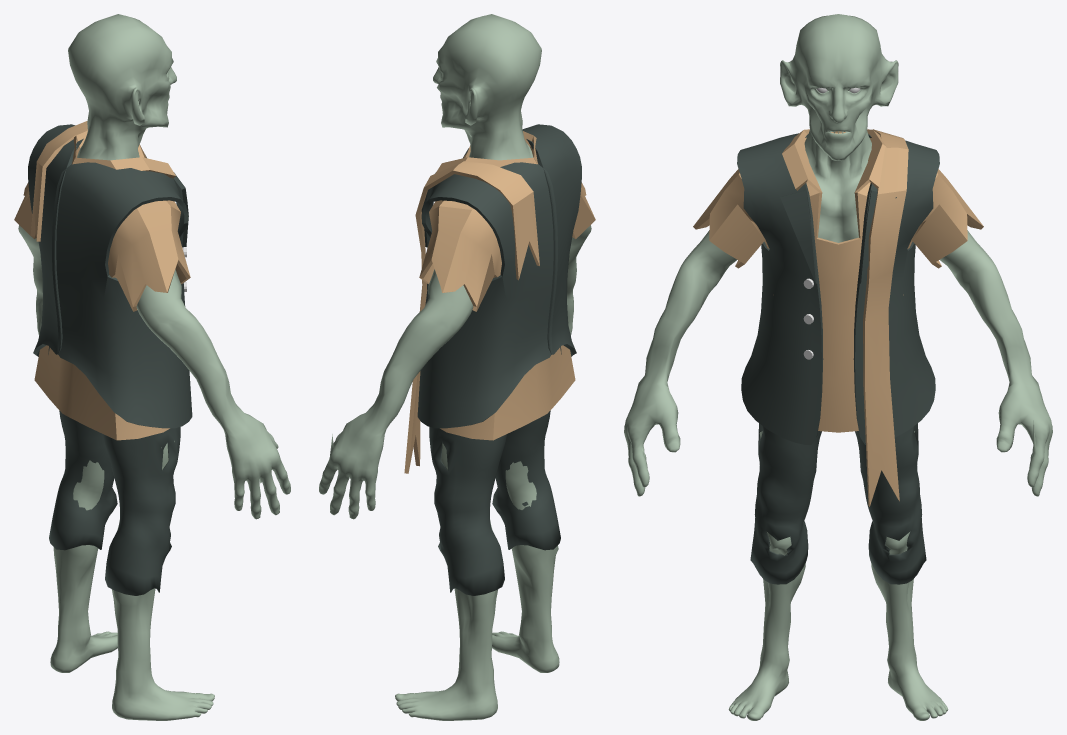
Rendered from SK_Zombie_Rework.fbx.
3 renders of one model, left to right at view 1: azimuth 30°, elevation 25°; view 2: azimuth 150°, elevation 25°; view 3: azimuth 270°, elevation 25°, orthographic. The views are drawn at different scales.
Visible parts, largest first — view 1: SM_Zombie_Clergy, Cube, SM_Zombie_Clergy.001, Cube.004, Cube.001; view 2: SM_Zombie_Clergy, Cube, SM_Zombie_Clergy.001, Cube.004, Cube.001; view 3: SM_Zombie_Clergy, Cube, Cube.004, SM_Zombie_Clergy.001, Cube.001, Cube.003.
Part boxes in pixels (x1,y1,x2,y2): SM_Zombie_Clergy: [18, 14, 290, 720]; Cube: [28, 124, 192, 428]; SM_Zombie_Clergy.001: [48, 346, 180, 595]; Cube.004: [14, 130, 190, 440]; Cube.001: [30, 121, 87, 241]; SM_Zombie_Clergy: [319, 14, 591, 720]; Cube: [417, 124, 581, 428]; SM_Zombie_Clergy.001: [429, 346, 561, 595]; Cube.004: [419, 131, 595, 440]; Cube.001: [404, 161, 539, 473]; SM_Zombie_Clergy: [624, 14, 1052, 720]; Cube: [737, 133, 939, 444]; Cube.004: [693, 129, 983, 432]; SM_Zombie_Clergy.001: [750, 423, 926, 584]; Cube.001: [863, 129, 908, 506]; Cube.003: [780, 190, 896, 283].
Size of the model in its own units: 43.29 by 192 by 109.
